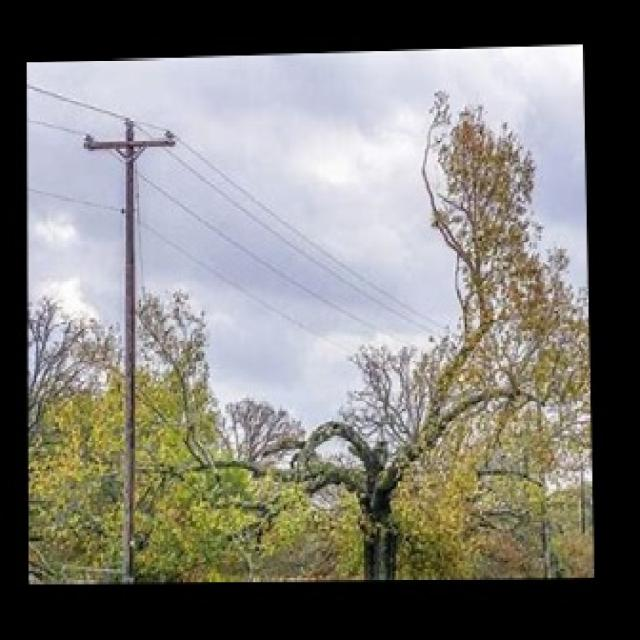utility poles: (90, 101, 178, 575)
